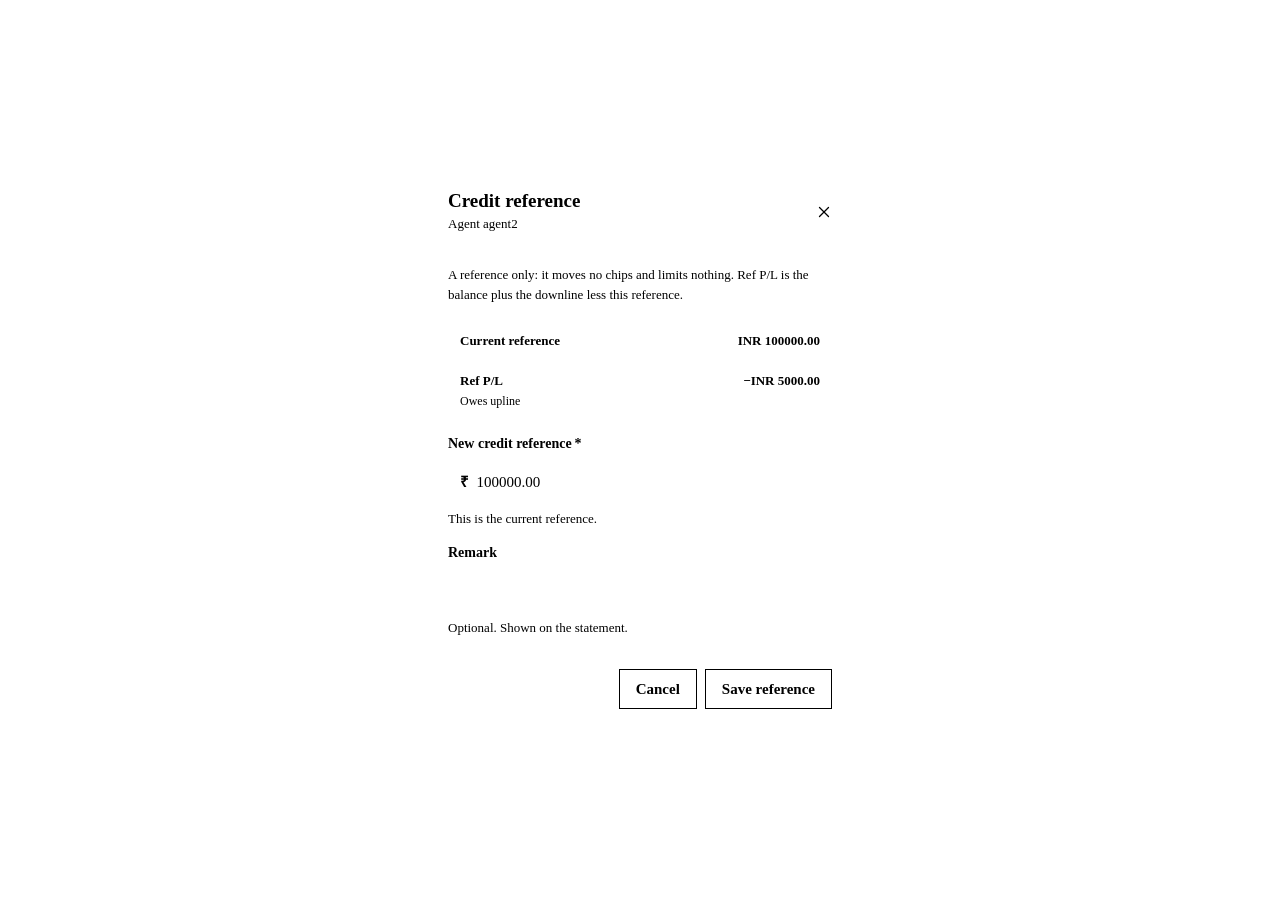
CreditReferenceModal › a reference below 0 is refused before it is sent
Expected: the dialog "Credit reference" is shown, [430,176,850,723]
Replace the text in the field labelled "New credit reference" with "-1" at (650, 482), box [469,460,832,504]
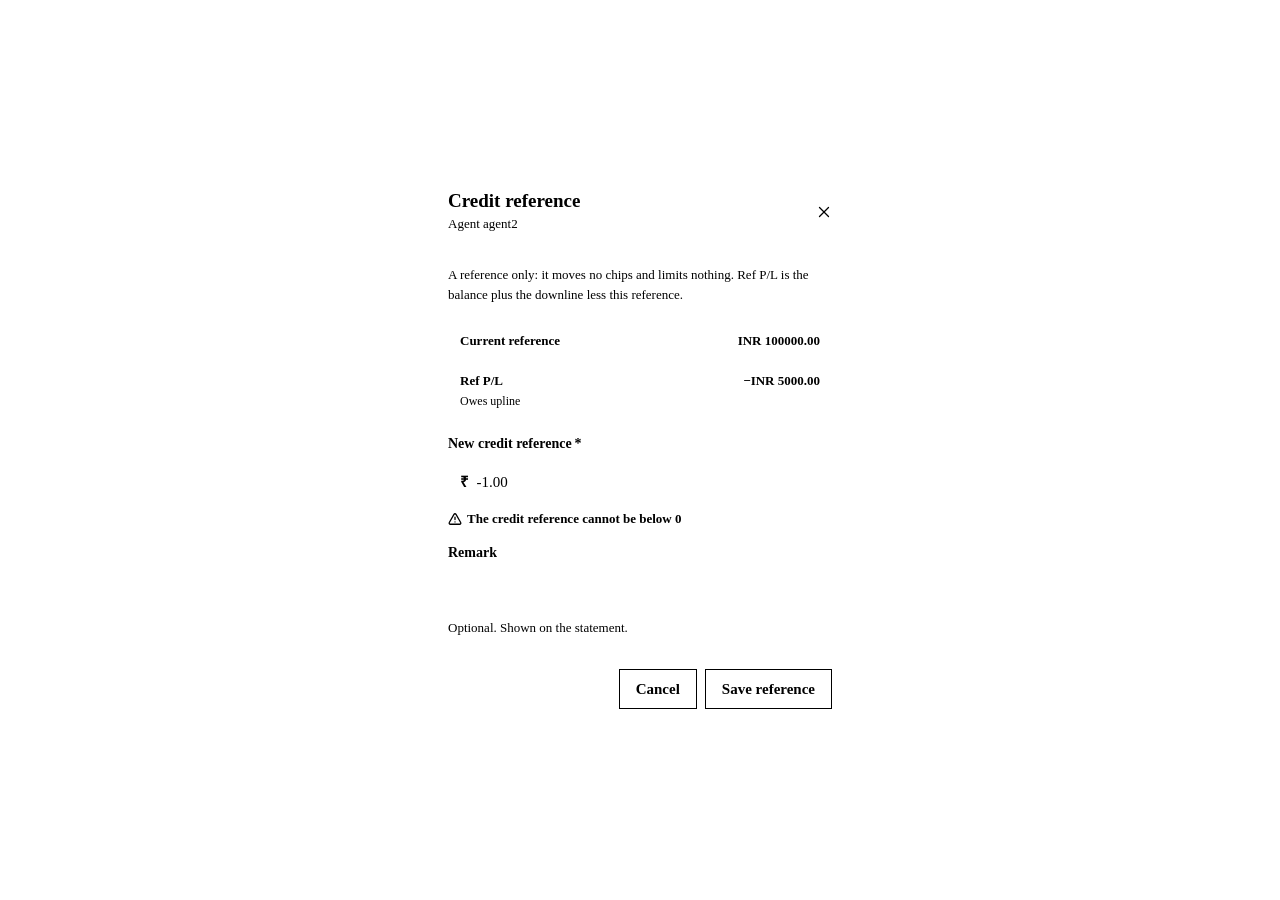
Result: the text "The credit reference cannot be below 0" is shown at [467,511,682,526]
